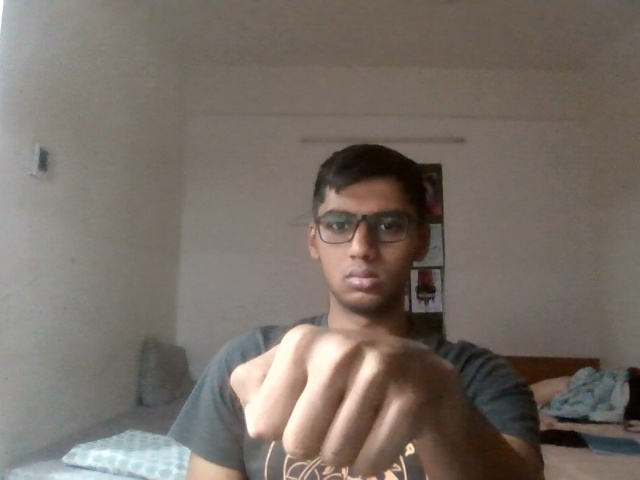yes: (194, 311, 462, 469)
